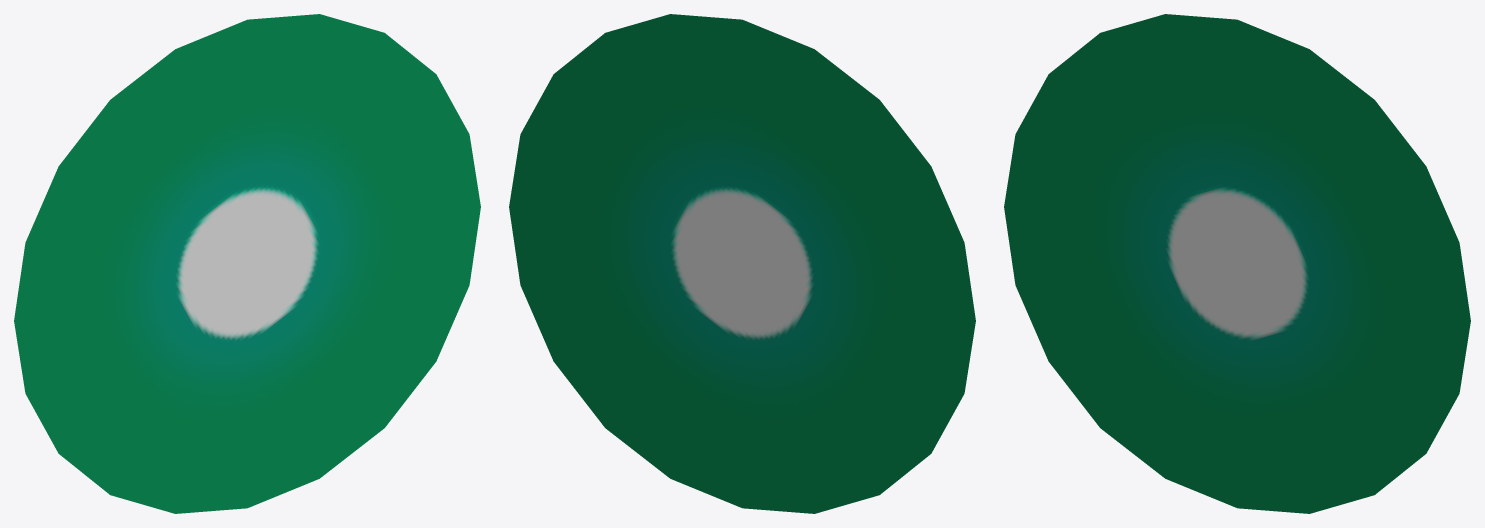
File: bullet_teal.glb
3 views of the same model, side by side, from view 1: azimuth 30°, elevation 25°; view 2: azimuth 150°, elevation 25°; view 3: azimuth 330°, elevation 25° (orthographic).
Visible parts, largest first — view 1: Cylinder; view 2: Cylinder; view 3: Cylinder.
Boxes of the visible parts, x1,y1,x2,y2 form: Cylinder: [14, 14, 480, 513]; Cylinder: [509, 14, 975, 513]; Cylinder: [1004, 14, 1470, 513].
Size of the model in its own units: 8.02 by 8.02 by 6.05e-07.
1 material, 1 textured.
